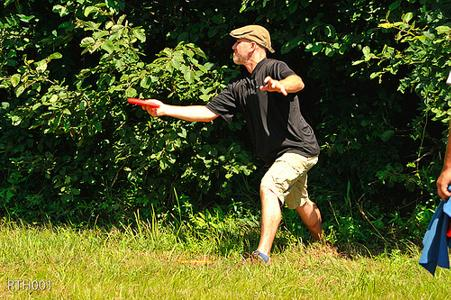person: (139, 24, 336, 264)
